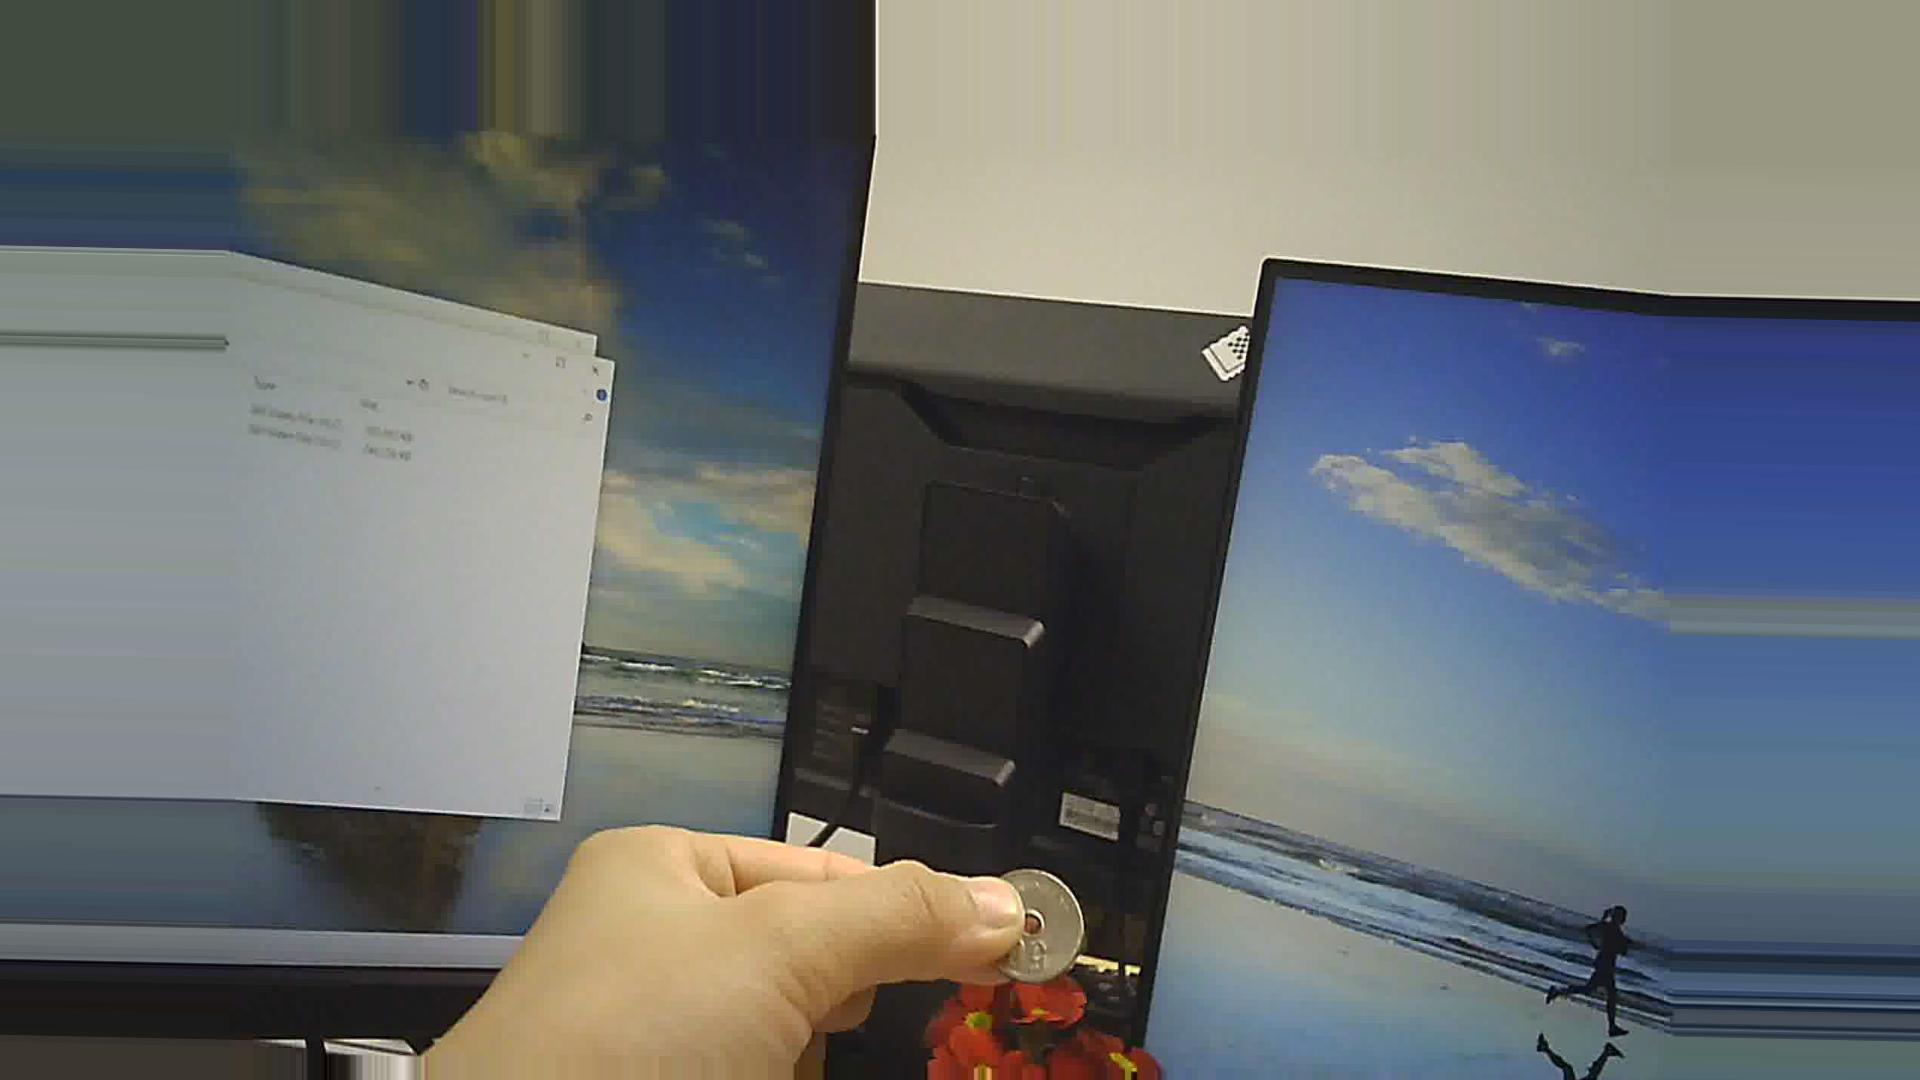50 Yen: (981, 858, 1095, 992)
